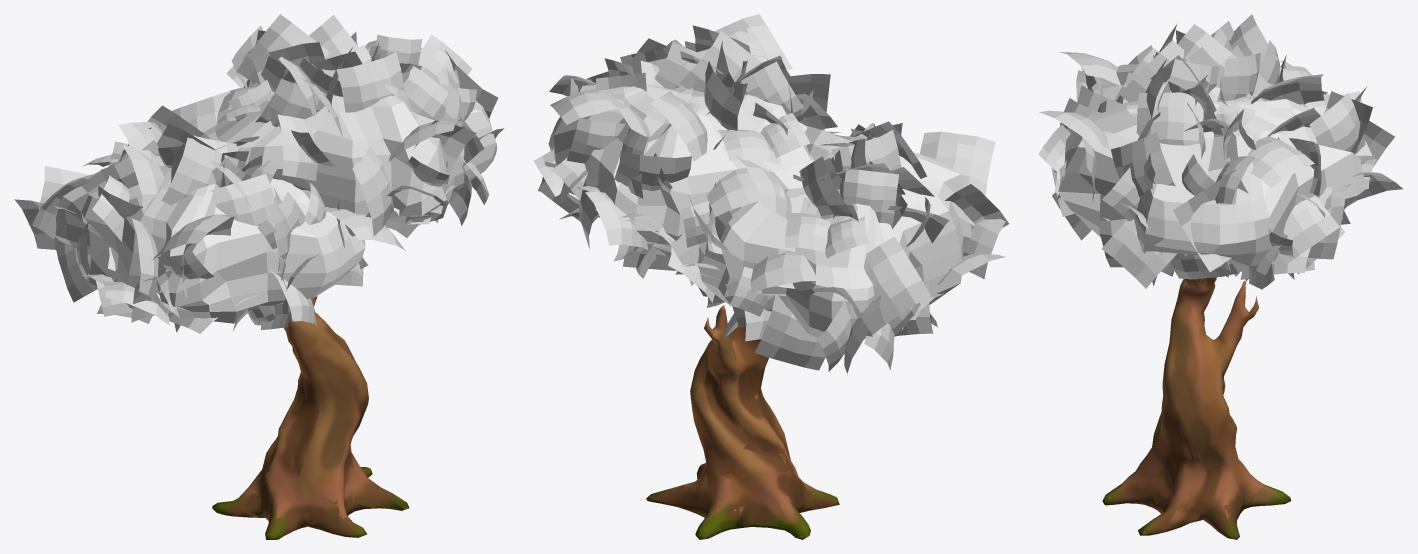
Rendered from OptimizedCherryTreeV2.fbx.
3 views of the same model, side by side, from view 1: azimuth 30°, elevation 25°; view 2: azimuth 150°, elevation 25°; view 3: azimuth 270°, elevation 25° (orthographic).
Parts seen in each view (by area): view 1: leafs2_LOD0, tree_hp_LOD0.001, leafs_LOD0, leafs|cherry|Dupli|52_LOD0, leafs2|cherry|Dupli|41_LOD0, leafs2|cherry|Dupli|52_LOD0, leafs|cherry|Dupli|55_LOD0, leafs|cherry|Dupli|90_LOD0, leafs|cherry|Dupli|63_LOD0, leafs|cherry|Dupli|41_LOD0, leafs|cherry|Dupli|73_LOD0, leafs2|cherry|Dupli|55_LOD0 (+34 smaller); view 2: tree_hp_LOD0.001, leafs2_LOD0, leafs_LOD0, leafs2|cherry|Dupli|71_LOD0, leafs2|cherry|Dupli|83_LOD0, leafs2|cherry|Dupli|46_LOD0, leafs2|cherry|Dupli|76_LOD0, leafs|cherry|Dupli|97_LOD0, leafs2|cherry|Dupli|87_LOD0, leafs|cherry|Dupli|90_LOD0, leafs|cherry|Dupli|54_LOD0, leafs|cherry|Dupli|87_LOD0 (+37 smaller); view 3: leafs_LOD0, tree_hp_LOD0.001, leafs|cherry|Dupli|40_LOD0, leafs|cherry|Dupli|29_LOD0, leafs|cherry|Dupli|35_LOD0, leafs|cherry|Dupli|9_LOD0, leafs|cherry|Dupli|13_LOD0, leafs|cherry|Dupli|96_LOD0, leafs|cherry|Dupli|82_LOD0, leafs|cherry|Dupli|23_LOD0, leafs|cherry|Dupli|90_LOD0, leafs|cherry|Dupli|64_LOD0 (+24 smaller).
Part boxes in pixels (bbox=[...]): leafs2_LOD0: bbox=[55, 159, 365, 323]; tree_hp_LOD0.001: bbox=[212, 296, 409, 539]; leafs_LOD0: bbox=[203, 80, 497, 236]; leafs|cherry|Dupli|52_LOD0: bbox=[336, 52, 404, 112]; leafs2|cherry|Dupli|41_LOD0: bbox=[210, 174, 274, 225]; leafs2|cherry|Dupli|52_LOD0: bbox=[161, 137, 238, 205]; leafs|cherry|Dupli|55_LOD0: bbox=[352, 146, 391, 236]; leafs|cherry|Dupli|90_LOD0: bbox=[236, 14, 329, 83]; leafs|cherry|Dupli|63_LOD0: bbox=[277, 114, 317, 180]; leafs|cherry|Dupli|41_LOD0: bbox=[403, 66, 447, 120]; leafs|cherry|Dupli|73_LOD0: bbox=[255, 78, 333, 126]; leafs2|cherry|Dupli|55_LOD0: bbox=[132, 218, 159, 303]; tree_hp_LOD0.001: bbox=[646, 305, 839, 539]; leafs2_LOD0: bbox=[697, 152, 974, 338]; leafs_LOD0: bbox=[548, 55, 814, 252]; leafs2|cherry|Dupli|71_LOD0: bbox=[864, 236, 930, 335]; leafs2|cherry|Dupli|83_LOD0: bbox=[754, 295, 825, 370]; leafs2|cherry|Dupli|46_LOD0: bbox=[920, 131, 995, 195]; leafs2|cherry|Dupli|76_LOD0: bbox=[842, 169, 898, 224]; leafs|cherry|Dupli|97_LOD0: bbox=[614, 151, 691, 190]; leafs2|cherry|Dupli|87_LOD0: bbox=[750, 251, 817, 293]; leafs|cherry|Dupli|90_LOD0: bbox=[651, 91, 707, 161]; leafs|cherry|Dupli|54_LOD0: bbox=[679, 31, 761, 89]; leafs|cherry|Dupli|87_LOD0: bbox=[706, 168, 783, 216]; leafs_LOD0: bbox=[1058, 87, 1365, 266]; tree_hp_LOD0.001: bbox=[1102, 277, 1291, 539]; leafs|cherry|Dupli|40_LOD0: bbox=[1136, 92, 1203, 145]; leafs|cherry|Dupli|29_LOD0: bbox=[1101, 219, 1177, 288]; leafs|cherry|Dupli|35_LOD0: bbox=[1110, 132, 1175, 197]; leafs|cherry|Dupli|9_LOD0: bbox=[1278, 195, 1339, 264]; leafs|cherry|Dupli|13_LOD0: bbox=[1224, 136, 1314, 187]; leafs|cherry|Dupli|96_LOD0: bbox=[1309, 93, 1365, 154]; leafs|cherry|Dupli|82_LOD0: bbox=[1217, 52, 1260, 101]; leafs|cherry|Dupli|23_LOD0: bbox=[1173, 170, 1272, 271]; leafs|cherry|Dupli|90_LOD0: bbox=[1251, 74, 1324, 104]; leafs|cherry|Dupli|64_LOD0: bbox=[1119, 40, 1184, 102].
Size of what is drawn, in the model's own units: 1486 by 1577 by 1127.
